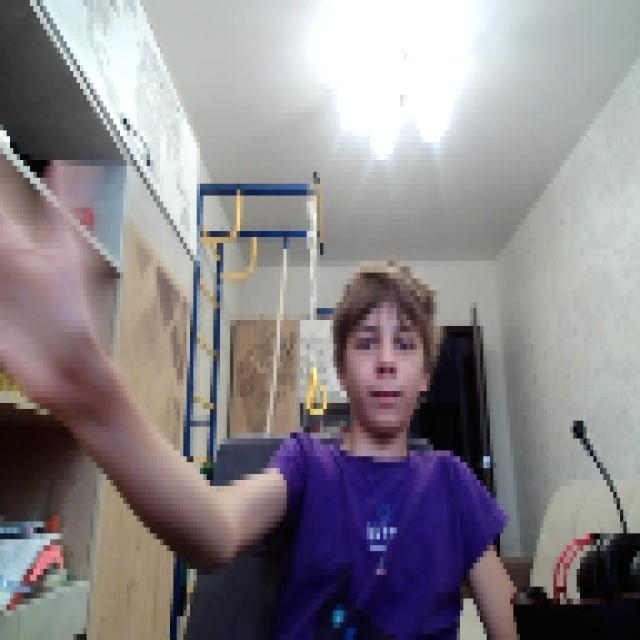hand: (0, 148, 97, 421)
